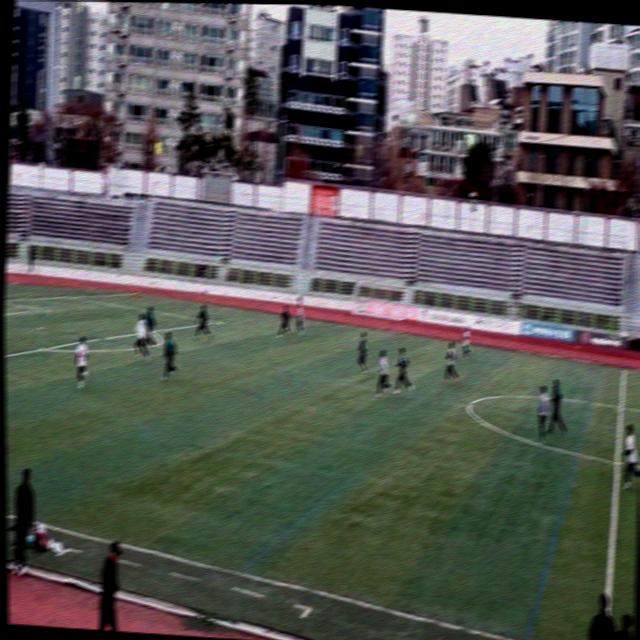bigarea_top_inner: (212, 314, 224, 331)
bigarea_top_outter: (65, 291, 77, 304)
bottom_arc_area_intersection: (39, 341, 49, 359)
corner: (132, 287, 141, 299)
halfcircle_bottom: (610, 452, 625, 474)
halfcircle_top: (615, 399, 629, 416)
midline_top_intersection: (619, 363, 630, 376)
smallarea_top_inner: (40, 303, 52, 317)
